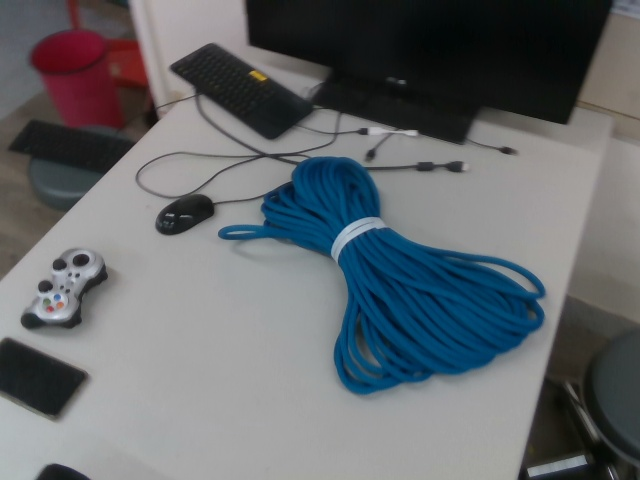rope: (216, 154, 545, 398)
